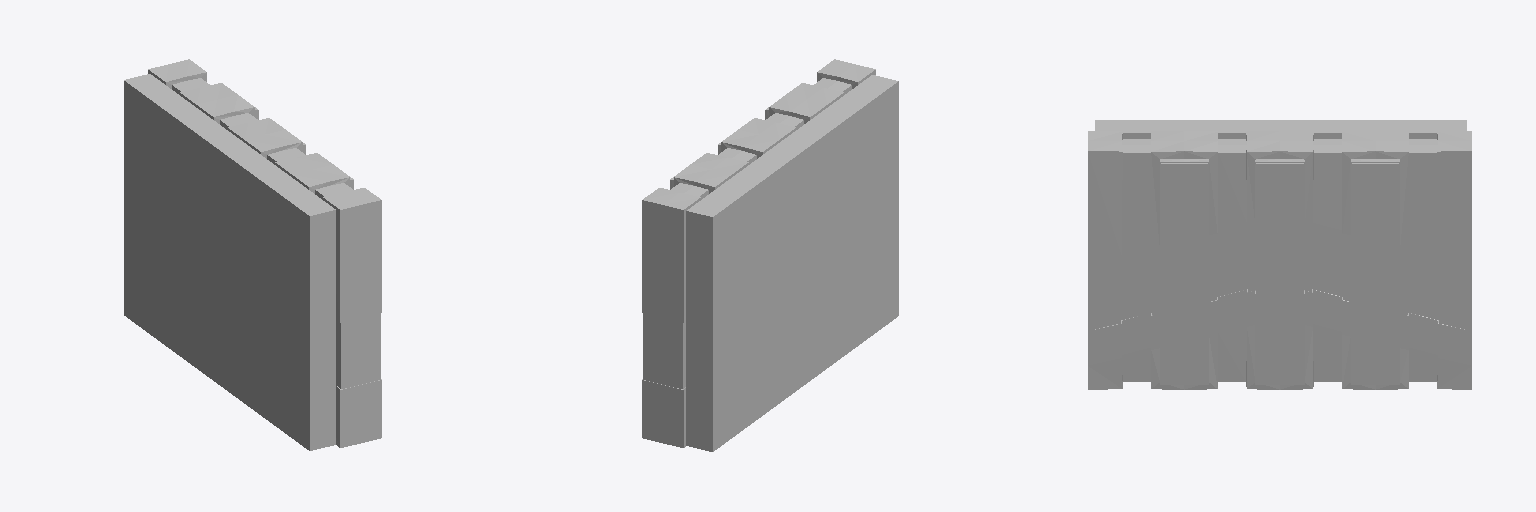
Rendered from Ship wall.OBJ.
The picture shows the model from 3 angles: view 1: azimuth 30°, elevation 25°; view 2: azimuth 150°, elevation 25°; view 3: azimuth 270°, elevation 25°; orthographic projection.
Parts seen in each view (by area): view 1: Group14213; view 2: Group14213; view 3: Group14213.
Part boxes in pixels (x1,y1,x2,y2): Group14213: (124,59,381,450); Group14213: (642,59,898,451); Group14213: (1088,120,1471,389).
Bounding box in the file's own units: 0.6339 × 1.87 × 2.74.